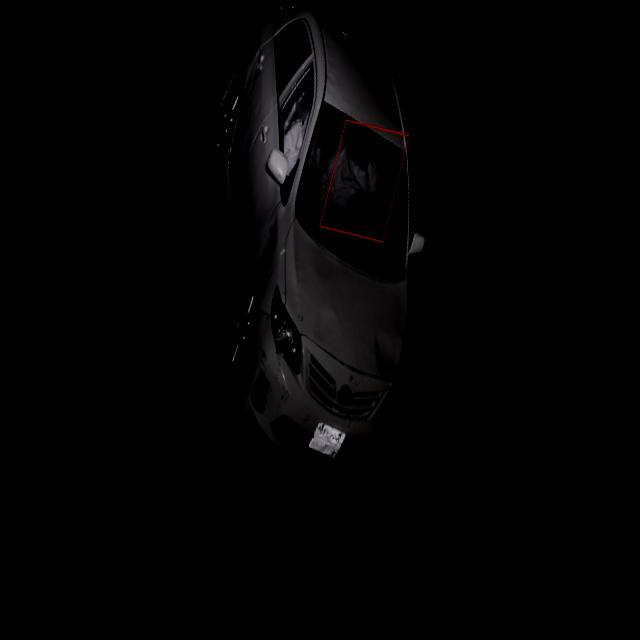windshield: (289, 100, 410, 287)
